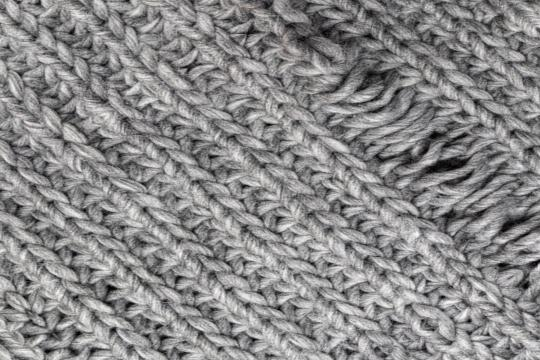slub: (314, 47, 540, 318)
